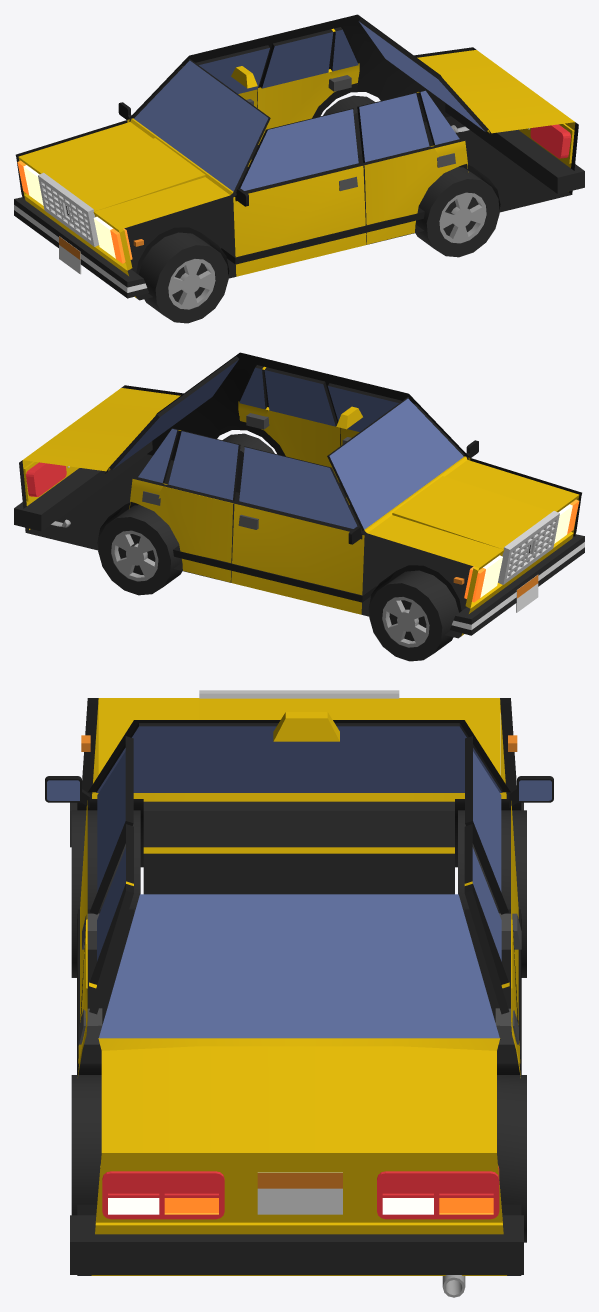
Rendered from taxi.glb.
3 views of the same model, one above another, from view 1: azimuth 30°, elevation 25°; view 2: azimuth 150°, elevation 25°; view 3: azimuth 270°, elevation 25° (orthographic). The views are drawn at different scales.
Visible parts, largest first — view 1: Cube_3, Cube.019_15, Cube.023_18, Cube.003_5, Cube.004_6, Cube.005_7, Cube.010_12, Cube.006_8, Cube.024_19, Cube.007_9, Plane.001_22, Cube.013_13; view 2: Cube_3, Cube.008_10, Cube.024_19, Cube.003_5, Cube.004_6, Cube.005_7, Cube.002_4, Cube.007_9, Cube.023_18, Cube.006_8, Plane.001_22, Cube.013_13; view 3: Cube_3, Cube.003_5, Cube.004_6, Cube.002_4, Cube.010_12, Cube.023_18, Cube.024_19, Plane_21, Cube.019_15, Cube.008_10, Cube.021_17, Cube.005_7 (+3 smaller).
Part boxes in pixels (x1=…): Cube_3: x1=15, y1=14, x2=578, y2=300; Cube.019_15: x1=138, y1=232, x2=228, y2=323; Cube.023_18: x1=415, y1=167, x2=499, y2=257; Cube.003_5: x1=445, y1=103, x2=584, y2=193; Cube.004_6: x1=14, y1=197, x2=148, y2=298; Cube.005_7: x1=38, y1=172, x2=98, y2=246; Cube.010_12: x1=530, y1=124, x2=570, y2=158; Cube.006_8: x1=93, y1=216, x2=132, y2=263; Cube.024_19: x1=323, y1=95, x2=375, y2=154; Cube.007_9: x1=17, y1=160, x2=43, y2=205; Plane.001_22: x1=59, y1=236, x2=81, y2=274; Cube.013_13: x1=328, y1=75, x2=455, y2=167; Cube_3: x1=19, y1=352, x2=581, y2=638; Cube.008_10: x1=369, y1=570, x2=458, y2=661; Cube.024_19: x1=98, y1=505, x2=182, y2=595; Cube.003_5: x1=14, y1=441, x2=152, y2=531; Cube.004_6: x1=450, y1=534, x2=584, y2=635; Cube.005_7: x1=498, y1=511, x2=559, y2=584; Cube.002_4: x1=26, y1=462, x2=66, y2=496; Cube.007_9: x1=464, y1=555, x2=502, y2=602; Cube.023_18: x1=222, y1=433, x2=274, y2=492; Cube.006_8: x1=554, y1=499, x2=579, y2=543; Plane.001_22: x1=516, y1=574, x2=538, y2=612; Cube.013_13: x1=142, y1=413, x2=269, y2=505; Cube_3: x1=77, y1=698, x2=521, y2=1275; Cube.003_5: x1=70, y1=1215, x2=523, y2=1274; Cube.004_6: x1=70, y1=801, x2=523, y2=847; Cube.002_4: x1=377, y1=1166, x2=499, y2=1219; Cube.010_12: x1=102, y1=1171, x2=224, y2=1219; Cube.023_18: x1=71, y1=1075, x2=101, y2=1215; Cube.024_19: x1=497, y1=1075, x2=526, y2=1242; Plane_21: x1=257, y1=1172, x2=342, y2=1214; Cube.019_15: x1=71, y1=810, x2=140, y2=977; Cube.008_10: x1=458, y1=810, x2=526, y2=977; Cube.021_17: x1=45, y1=776, x2=553, y2=807; Cube.005_7: x1=199, y1=690, x2=399, y2=698.
Bounding box in the file's own units: 2.76 × 1.03 × 1.31.
